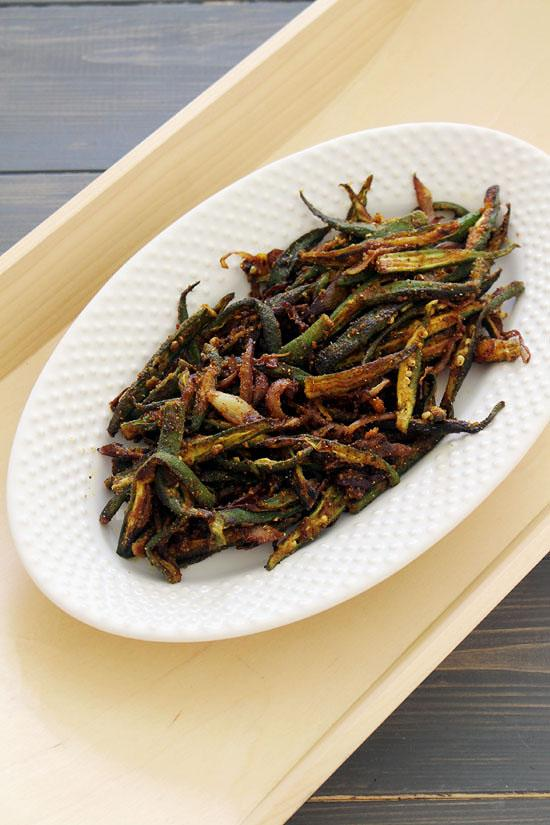bhindi: (133, 217, 484, 533)
